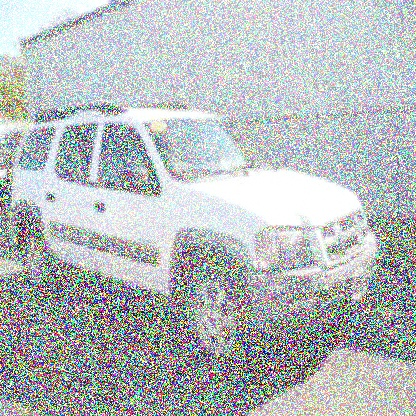Vehicle: (14, 93, 378, 368)
